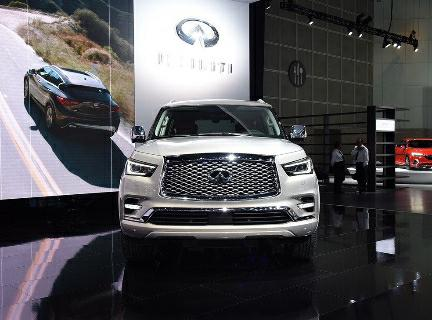英菲尼迪-QX80: (108, 93, 330, 258)
